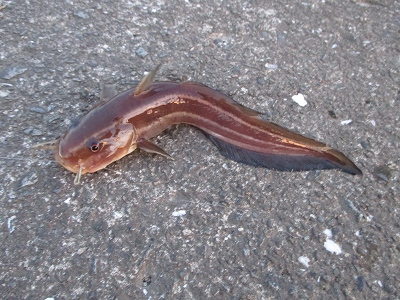gonzui: (45, 76, 381, 195)
